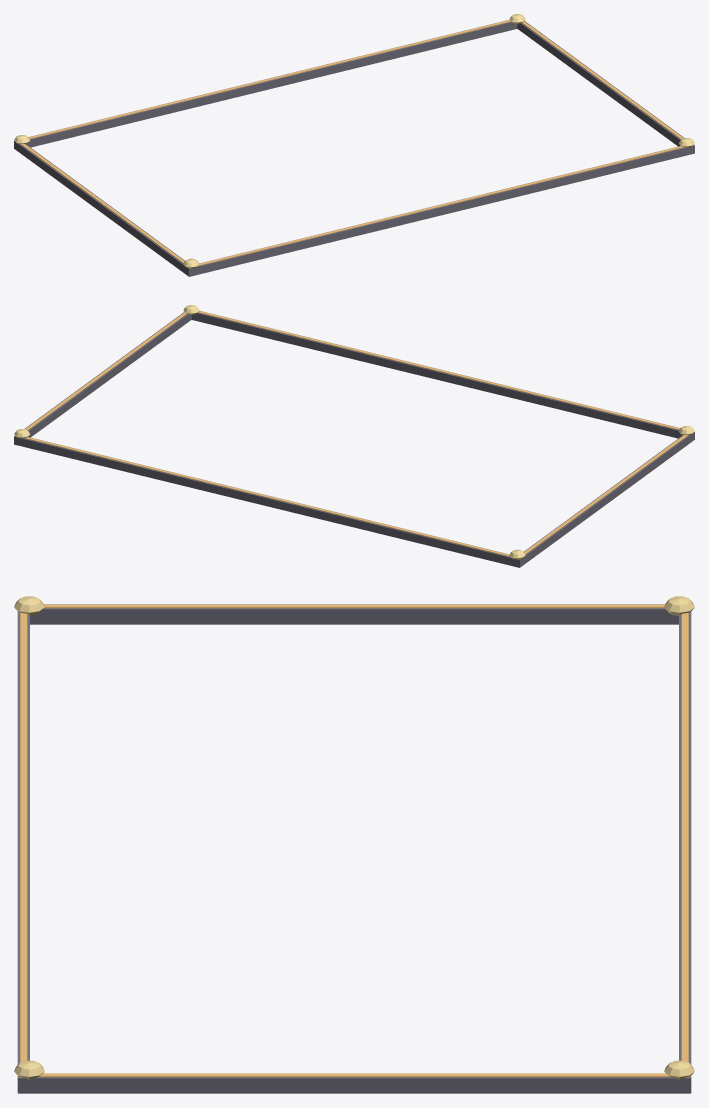
File: borde_cancha.glb
3 views of the same model, one above another, from view 1: azimuth 30°, elevation 25°; view 2: azimuth 150°, elevation 25°; view 3: azimuth 270°, elevation 25° (orthographic). The views are drawn at different scales.
Parts seen in each view (by area): view 1: borde_cancha; view 2: borde_cancha; view 3: borde_cancha.
Part boxes in pixels (x1,y1,x2,y2): borde_cancha: (14,14,694,276); borde_cancha: (14,305,694,567); borde_cancha: (14,596,694,1093).
Size of the model in its own units: 20.14 by 0.51 by 12.15.
